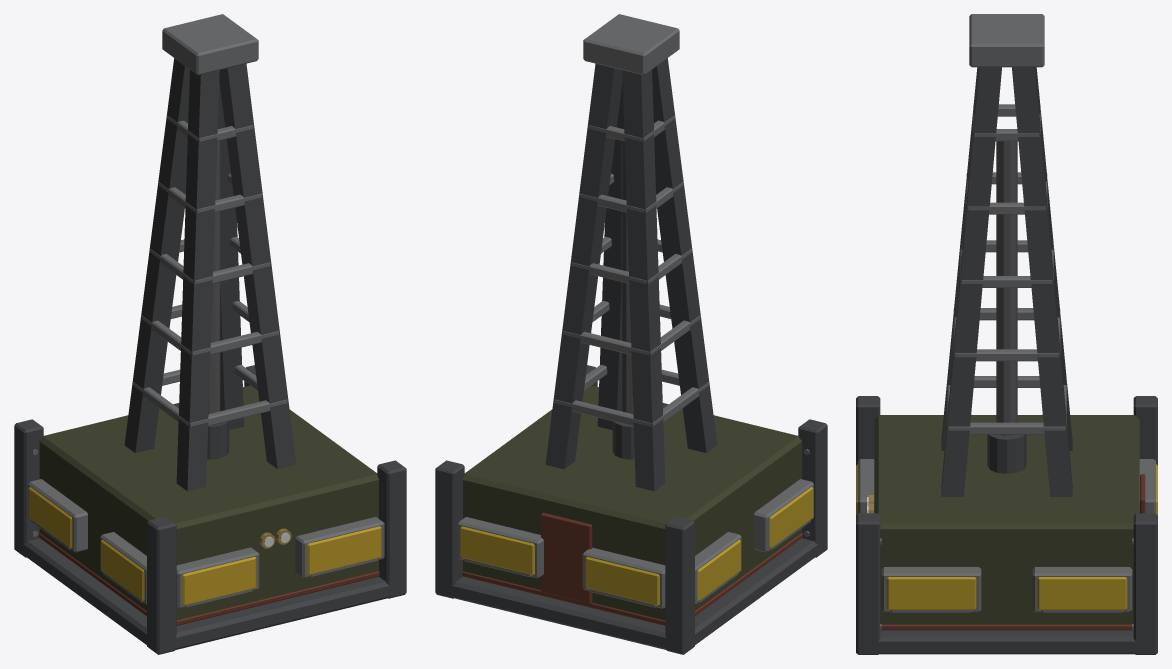
The model's file is miner_mk1.glb.
3 views of the same model, side by side, from view 1: azimuth 30°, elevation 25°; view 2: azimuth 150°, elevation 25°; view 3: azimuth 270°, elevation 25° (orthographic). The views are drawn at different scales.
Parts seen in each view (by area): view 1: miner_mk1_CastIron, miner_mk1_OliveDrab, miner_mk1_WeldedSteel, miner_mk1_HazardYellow, miner_mk1_OiledSteel, miner_mk1_OxideRed; view 2: miner_mk1_CastIron, miner_mk1_OliveDrab, miner_mk1_WeldedSteel, miner_mk1_HazardYellow, miner_mk1_OxideRed, miner_mk1_OiledSteel; view 3: miner_mk1_CastIron, miner_mk1_OliveDrab, miner_mk1_WeldedSteel, miner_mk1_HazardYellow, miner_mk1_OiledSteel, miner_mk1_OxideRed.
Part boxes in pixels (x1,y1,x2,y2): miner_mk1_CastIron: (14,58,406,654); miner_mk1_OliveDrab: (39,385,378,620); miner_mk1_WeldedSteel: (28,14,384,608); miner_mk1_HazardYellow: (28,486,381,605); miner_mk1_OiledSteel: (208,141,220,413); miner_mk1_OxideRed: (39,533,379,625); miner_mk1_CastIron: (435,58,827,654); miner_mk1_OliveDrab: (463,385,802,620); miner_mk1_WeldedSteel: (457,14,813,608); miner_mk1_HazardYellow: (460,486,813,605); miner_mk1_OxideRed: (462,512,802,625); miner_mk1_OiledSteel: (621,141,633,413); miner_mk1_CastIron: (856,67,1157,654); miner_mk1_OliveDrab: (874,415,1139,624); miner_mk1_WeldedSteel: (858,14,1155,629); miner_mk1_HazardYellow: (856,464,1157,610); miner_mk1_OiledSteel: (996,141,1017,435); miner_mk1_OxideRed: (880,474,1145,630).
Bounding box in the file's own units: 4 × 8.24 × 4.
